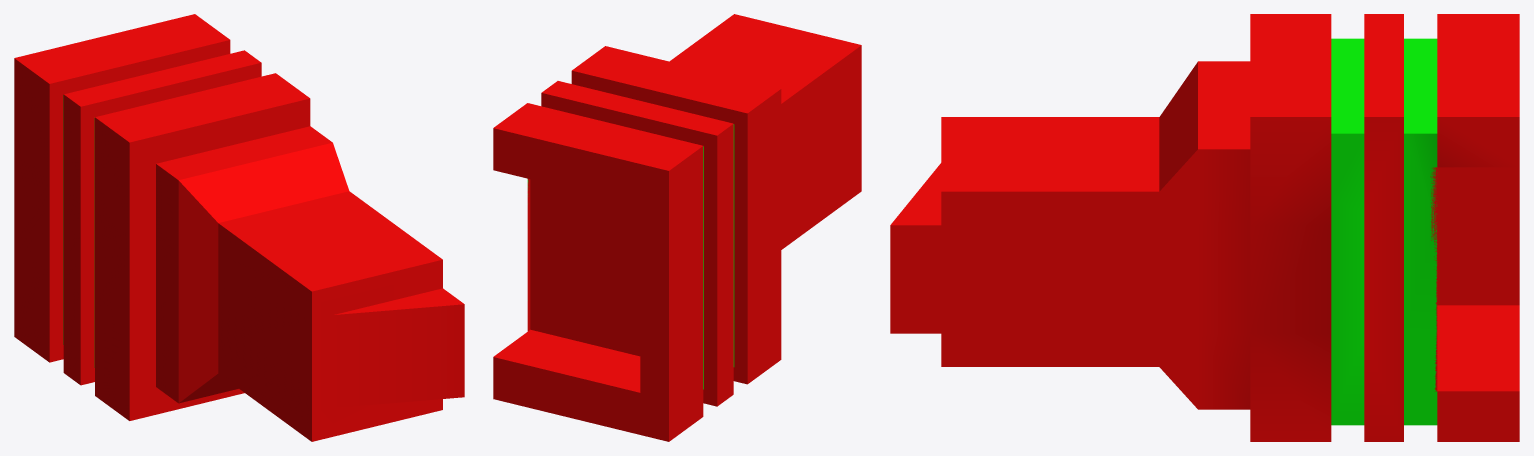
The model's file is Lamp_01.fbx.
3 views of the same model, side by side, from view 1: azimuth 30°, elevation 25°; view 2: azimuth 150°, elevation 25°; view 3: azimuth 270°, elevation 25° (orthographic). The views are drawn at different scales.
Parts seen in each view (by area): view 1: Box001; view 2: Box001; view 3: Box001.
Part boxes in pixels (x1,y1,x2,y2): Box001: [14, 14, 464, 441]; Box001: [493, 14, 861, 441]; Box001: [890, 14, 1519, 441].
Size of the model in its own units: 14.45 by 21.27 by 37.33.
